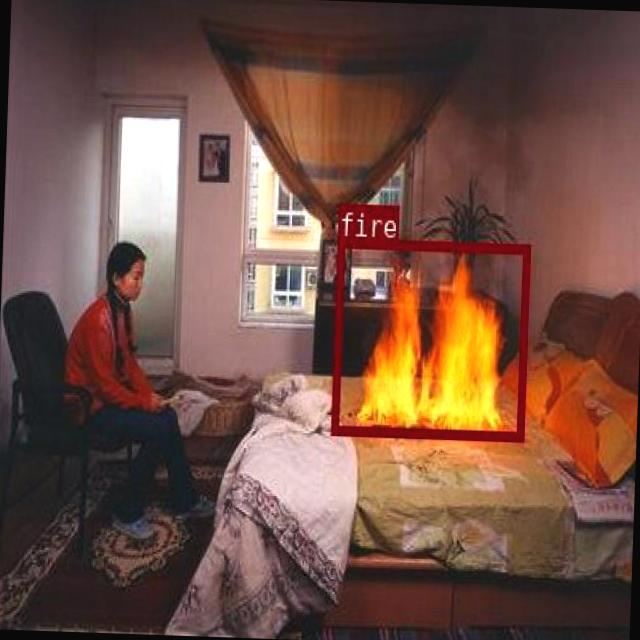fire: (330, 235, 528, 440)
